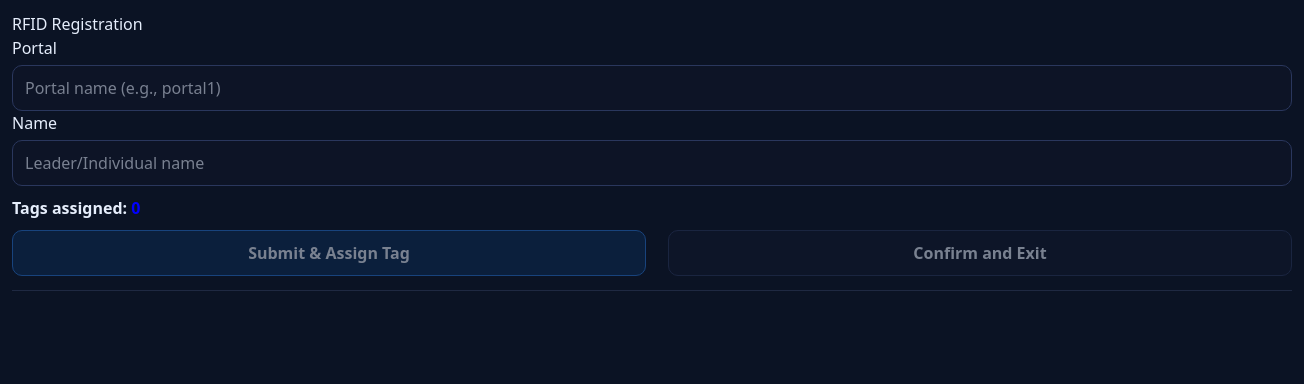
Test: RegistrationForm Component - Comprehensive Tests › Form Validation › should enable confirm button when tags are assigned
The image size is (1304, 384).
Type "portal1" into the field with placeholder "Portal name (e.g., portal1)" at [652, 88], box [12, 65, 1292, 111]
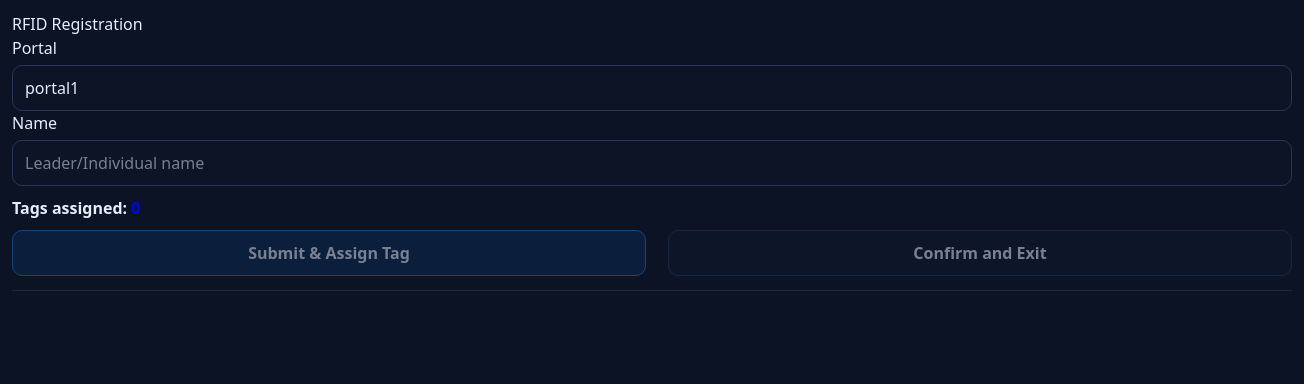
Type "John Doe" into the field with placeholder "Leader/Individual name" at [652, 163], box [12, 140, 1292, 186]
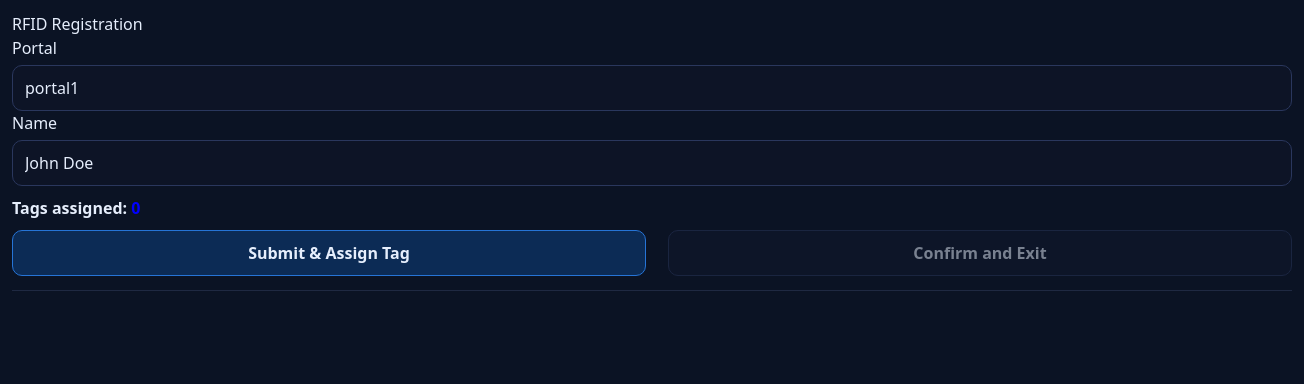
Click the button "Submit & Assign Tag" at [329, 253], box [12, 230, 646, 276]
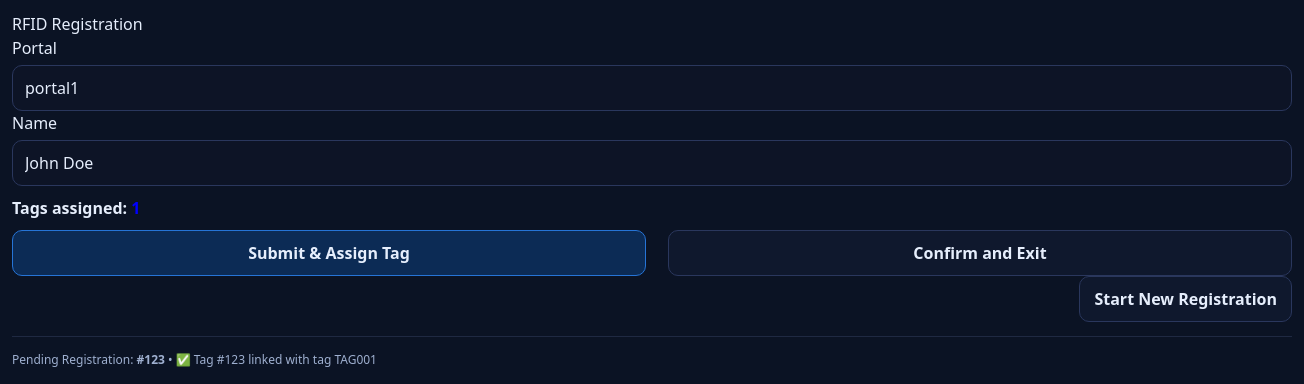
Expected: the text "1" is shown, [131, 197, 140, 219]
Expected: the button "Confirm and Exit" is enabled, [668, 230, 1292, 276]
